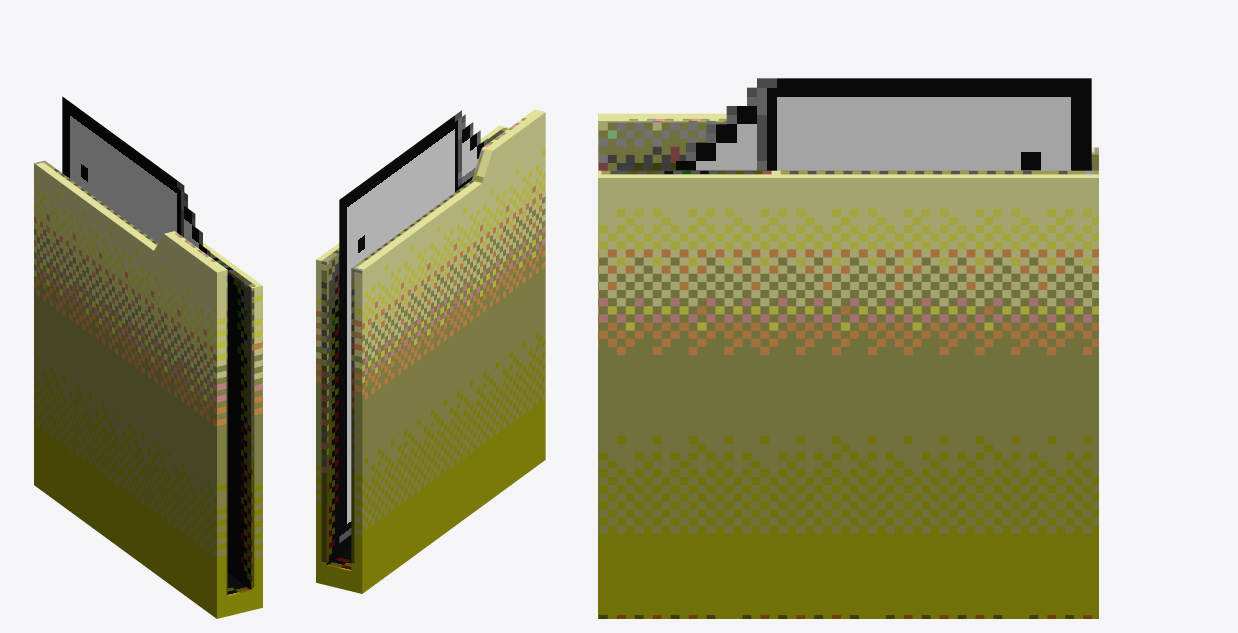
Rendered from dossier.fbx.
3 renders of one model, left to right at view 1: azimuth 30°, elevation 25°; view 2: azimuth 150°, elevation 25°; view 3: azimuth 270°, elevation 25°, orthographic. The views are drawn at different scales.
Visible parts, largest first — view 1: Cube, fichier; view 2: Cube, fichier; view 3: Cube, fichier.
Boxes of the visible parts, x1,y1,x2,y2 form: Cube: (34,160,262,618); fichier: (62,96,210,256); Cube: (316,109,545,593); fichier: (339,110,487,542); Cube: (598,113,1098,618); fichier: (666,78,1091,170).
Bounding box in the file's own units: 5.41 × 48.46 × 48.22.
